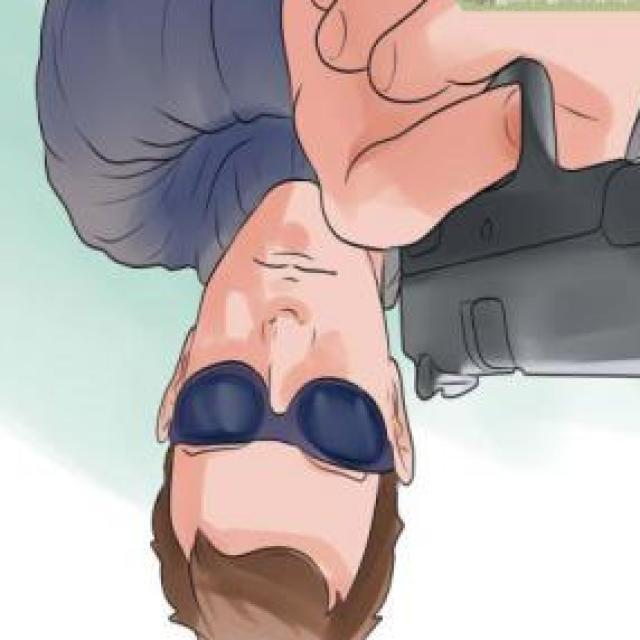pistol: (367, 61, 640, 417)
